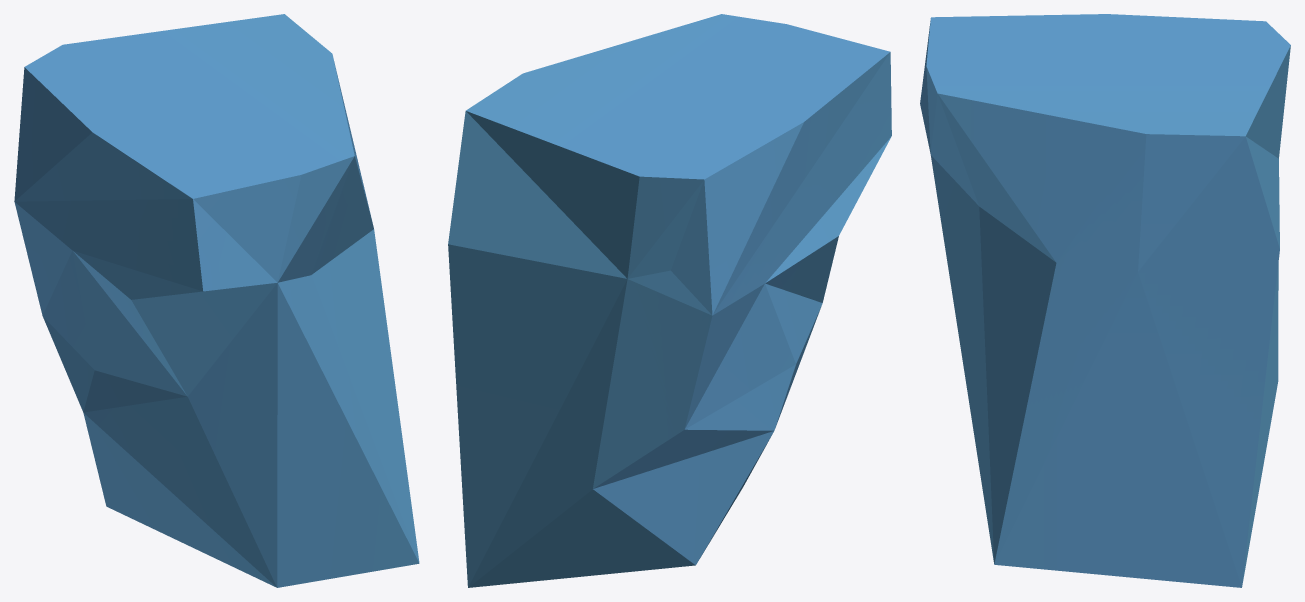
Rendered from sp_rock02.glb.
3 renders of one model, left to right at view 1: azimuth 30°, elevation 25°; view 2: azimuth 150°, elevation 25°; view 3: azimuth 270°, elevation 25°, orthographic. The views are drawn at different scales.
Visible parts, largest first — view 1: SP_Rock02; view 2: SP_Rock02; view 3: SP_Rock02.
Boxes of the visible parts, bbox=[...] form: SP_Rock02: bbox=[14, 14, 419, 587]; SP_Rock02: bbox=[448, 14, 891, 587]; SP_Rock02: bbox=[920, 14, 1290, 587].
Size of the model in its own units: 63.71 by 109 by 80.75.
1 material, 1 textured.
